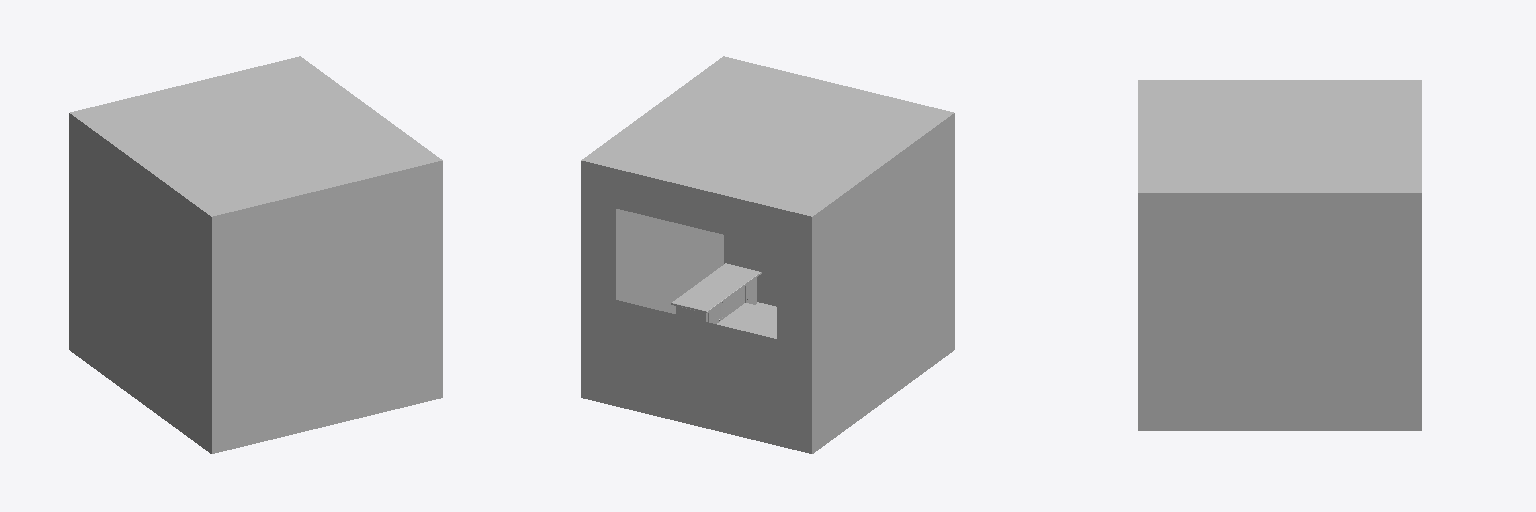
The model's file is art room.obj.
3 renders of one model, left to right at view 1: azimuth 30°, elevation 25°; view 2: azimuth 150°, elevation 25°; view 3: azimuth 270°, elevation 25°, orthographic.
Parts seen in each view (by area): view 1: directionalLight2 polySurface270; view 2: directionalLight2 polySurface270, directionalLight2 polySurface289, directionalLight2 polySurface313; view 3: directionalLight2 polySurface270.
Boxes of the visible parts, x1=… form: directionalLight2 polySurface270: x1=69, y1=56, x2=442, y2=453; directionalLight2 polySurface270: x1=581, y1=56, x2=954, y2=453; directionalLight2 polySurface289: x1=671, y1=263, x2=761, y2=321; directionalLight2 polySurface313: x1=717, y1=303, x2=776, y2=338; directionalLight2 polySurface270: x1=1138, y1=80, x2=1421, y2=430.
Bounding box in the file's own units: 2305 × 2275 × 2457.